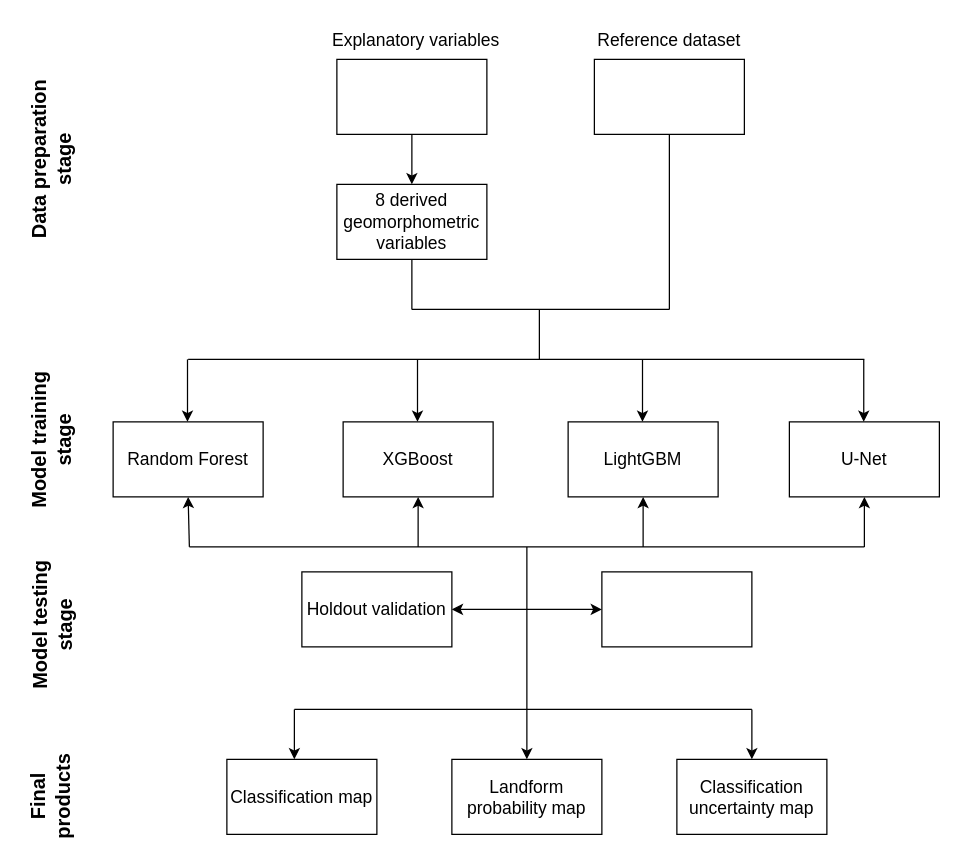
The diagram is 963 pixels wide and 860 high, and some of its shapes have lost their labels. Each missing label, with the box of its shape:
Digital geomorphological map: (593, 58, 744, 134)
Digital terrain model (30 m): (336, 58, 487, 134)
Visual validation: (601, 571, 752, 647)
